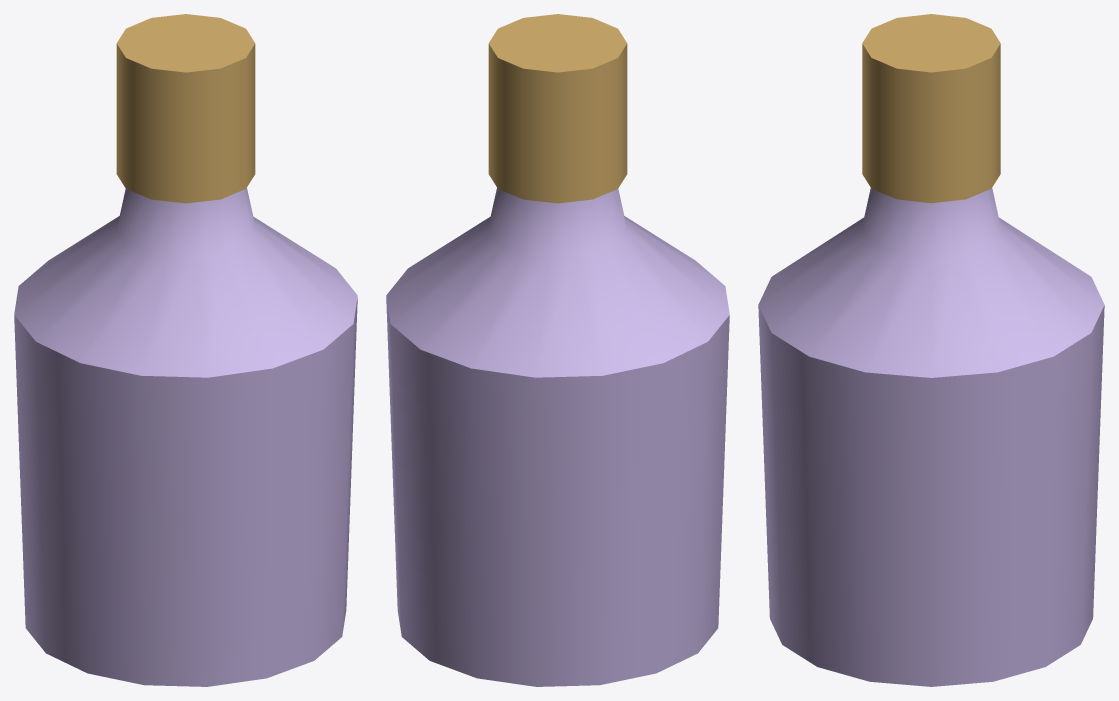
Rendered from perfume_bottle.fbx.
3 renders of one model, left to right at view 1: azimuth 30°, elevation 25°; view 2: azimuth 150°, elevation 25°; view 3: azimuth 270°, elevation 25°, orthographic.
Parts seen in each view (by area): view 1: perfume_bottle; view 2: perfume_bottle; view 3: perfume_bottle.
Boxes of the visible parts, x1=… form: perfume_bottle: x1=14, y1=14, x2=357, y2=686; perfume_bottle: x1=386, y1=14, x2=729, y2=686; perfume_bottle: x1=758, y1=14, x2=1104, y2=686.
Bounding box in the file's own units: 0.06 × 0.11 × 0.06.
